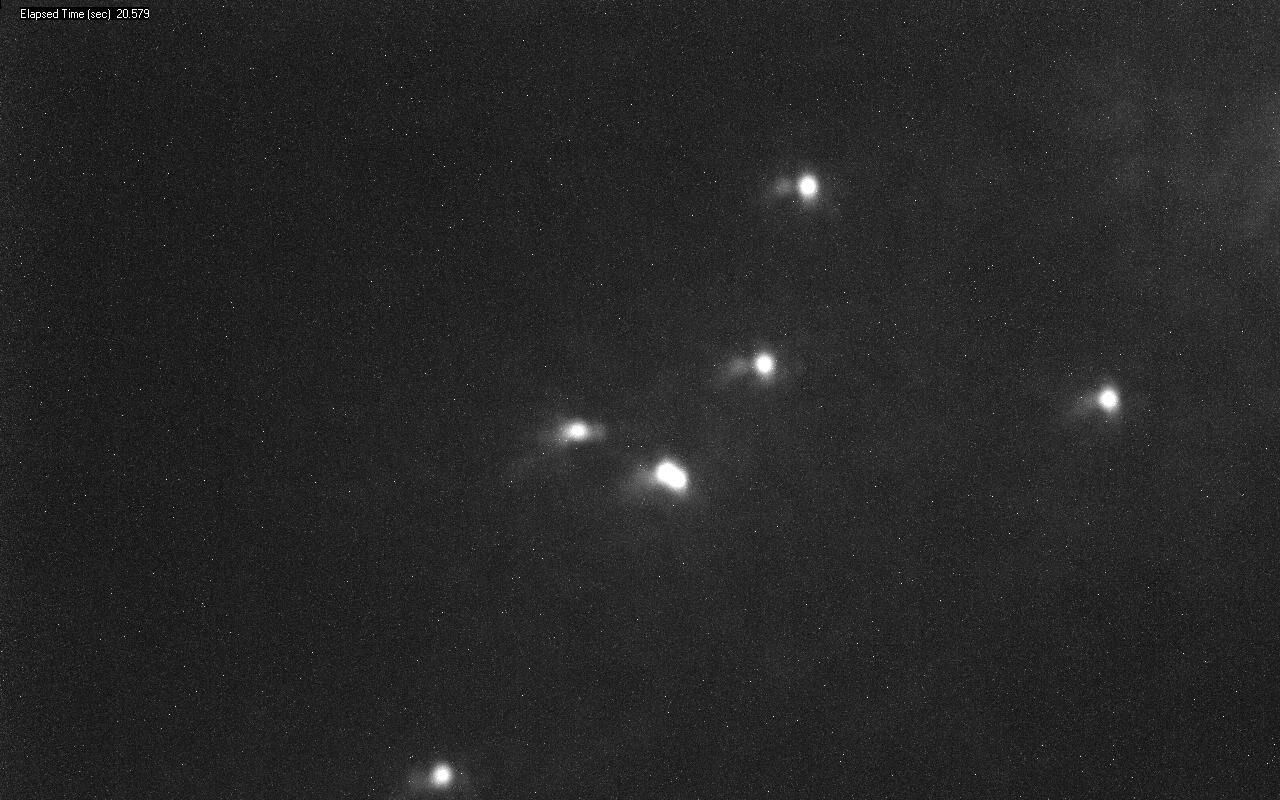Bead: (752, 352, 775, 379), (797, 174, 818, 200), (564, 421, 590, 440), (1098, 388, 1118, 412)
